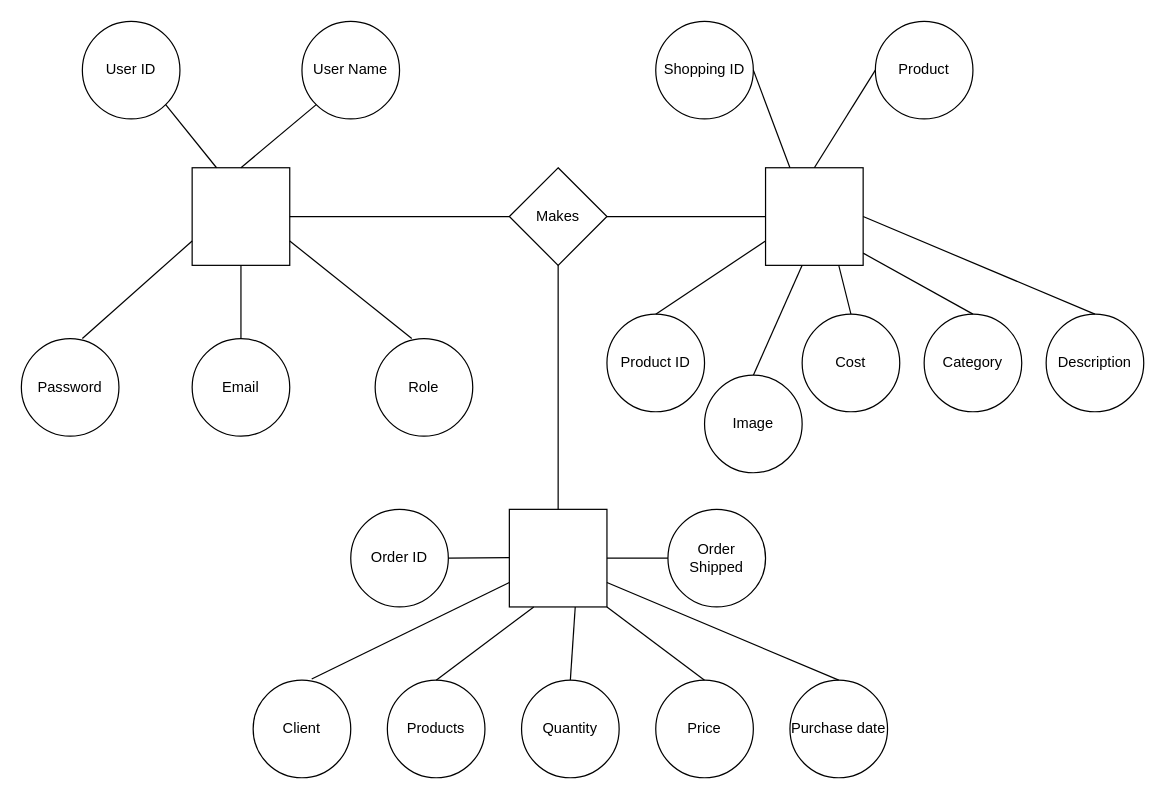
The diagram is 1165 pixels wide and 799 high, and some of its shapes have lost their labels. The centre of each missing label's shape, as x and y in pixels:
"Orders" goes at point (557, 557).
"Shopping" goes at point (813, 216).
"USER" goes at point (240, 216).
